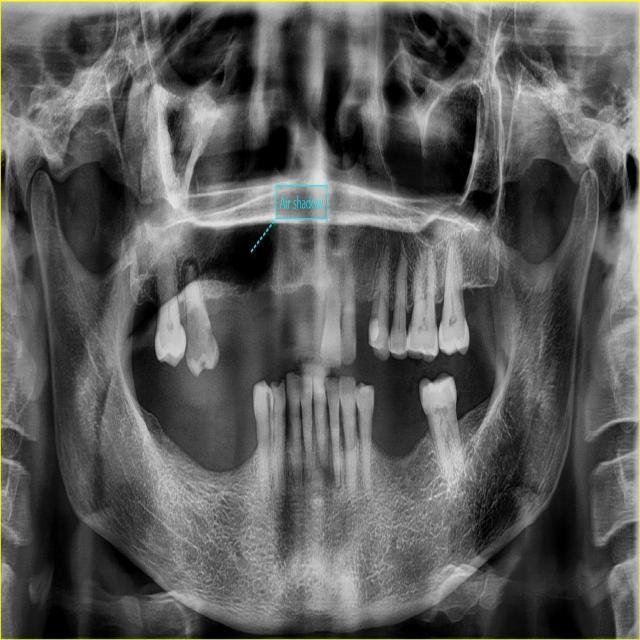Sterngold Implant: (185, 305, 218, 369), (274, 380, 290, 402), (424, 406, 437, 427)
Straumann Implant: (367, 316, 380, 345), (359, 383, 372, 397)
